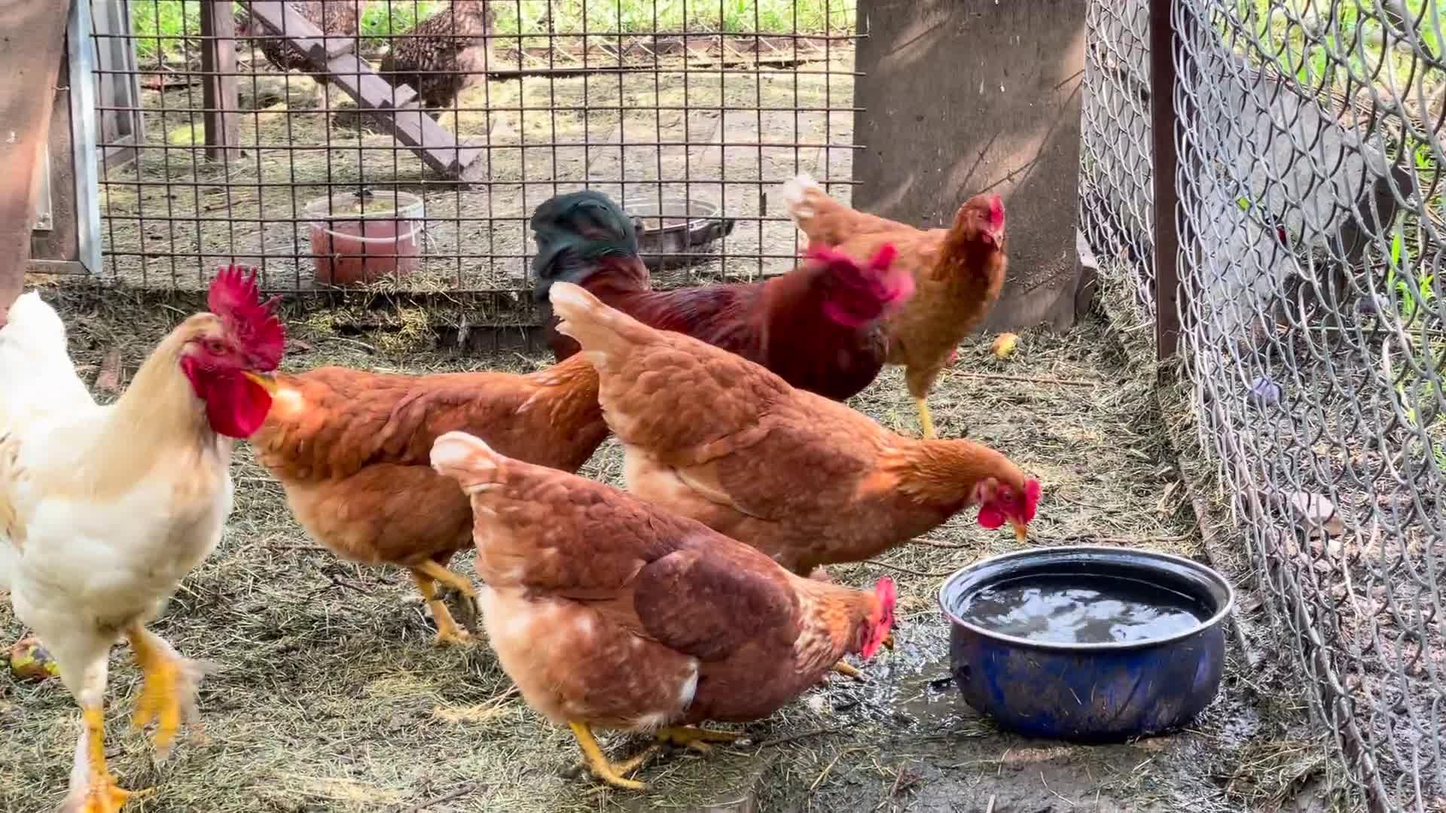Normal: (426, 437, 905, 789), (6, 277, 269, 813), (552, 285, 1010, 577), (260, 352, 612, 639), (535, 194, 917, 390), (787, 174, 1024, 443)
